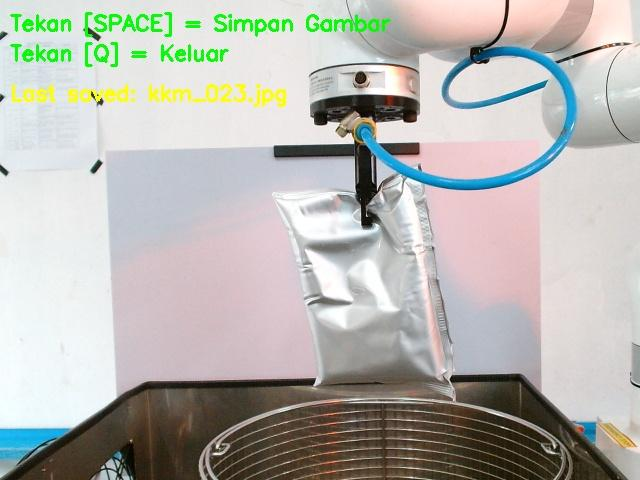retort-pouch: (270, 169, 457, 396)
